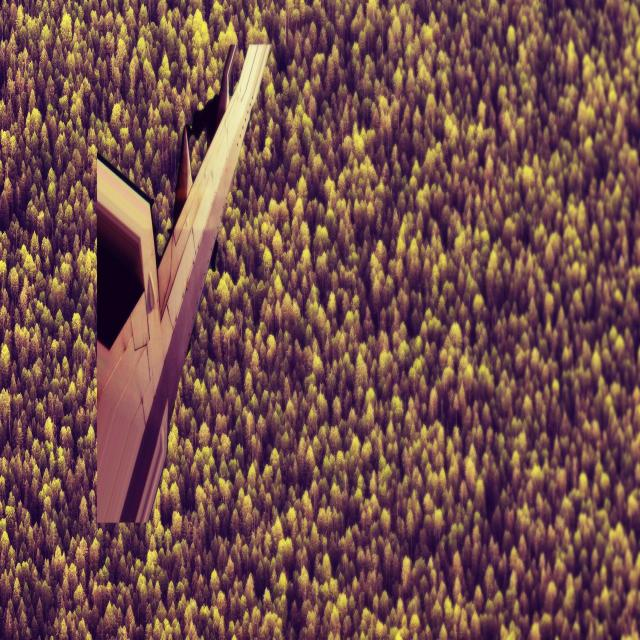airplane: (95, 38, 272, 526)
